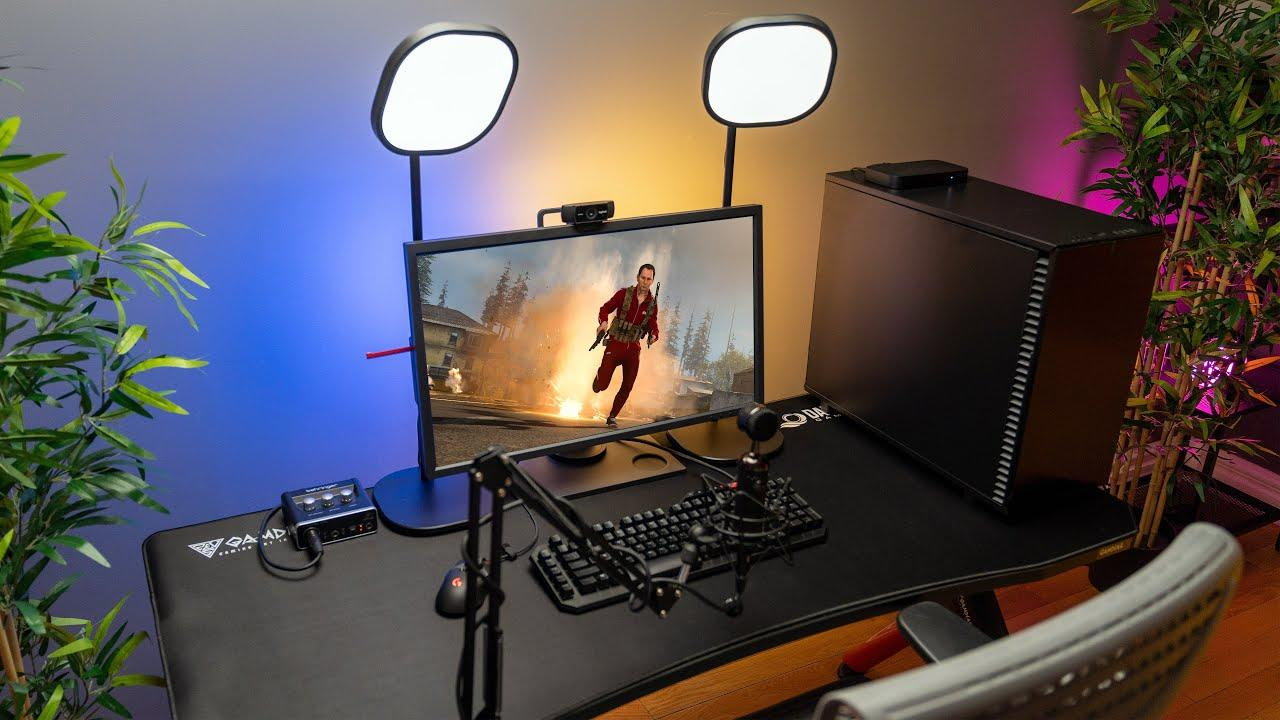keyboard: (530, 465, 830, 623)
light: (367, 15, 531, 167), (693, 10, 850, 137)
mic: (705, 377, 802, 568)
monitor: (387, 196, 775, 479)
mouse: (428, 541, 502, 626)
pc: (791, 143, 1154, 530)
webcam: (536, 190, 639, 239)
